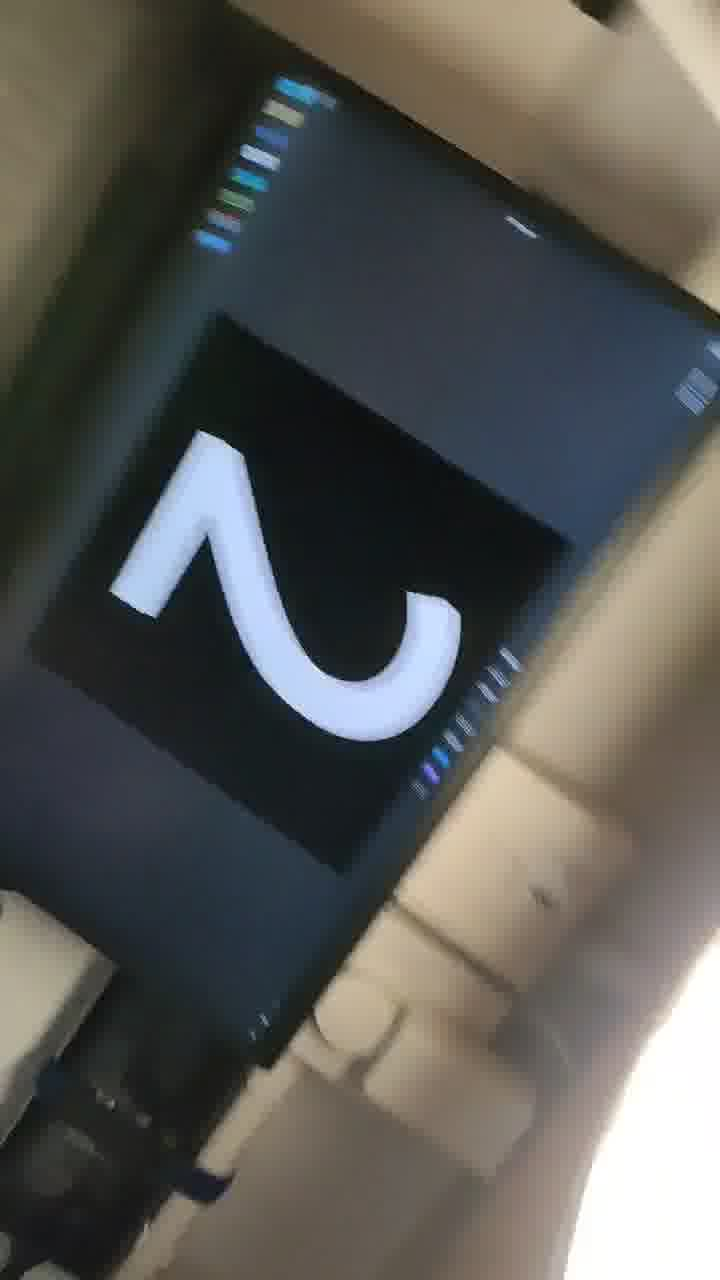two: (96, 373, 541, 891)
